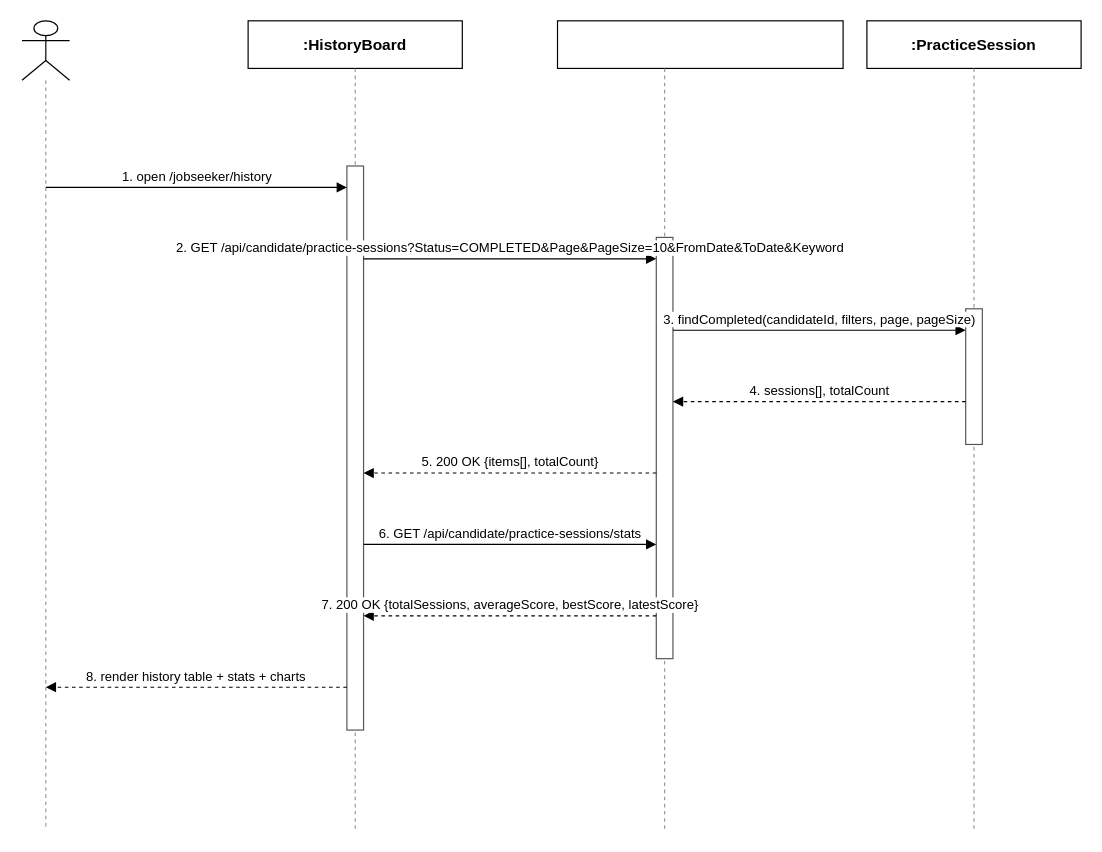
The diagram is 1102 pixels wide and 852 high, and some of its shapes have lost their labels. Here are the shapes that lost their labels. From the top down, the centre of each, then its label:
point (45, 50): Job Seeker
point (699, 44): :CandidatePracticeSessionsController
